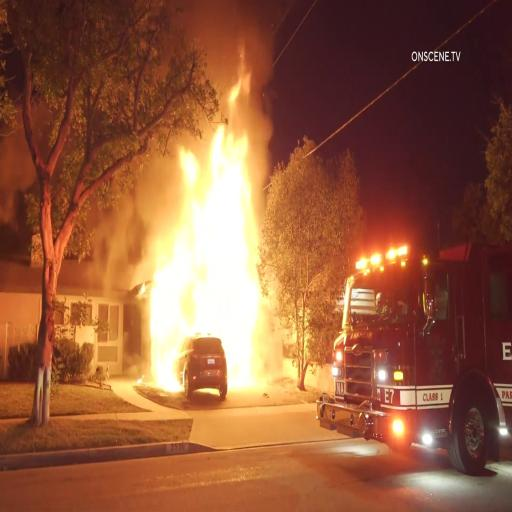fire: (156, 143, 255, 384)
smoke: (169, 3, 269, 74)
